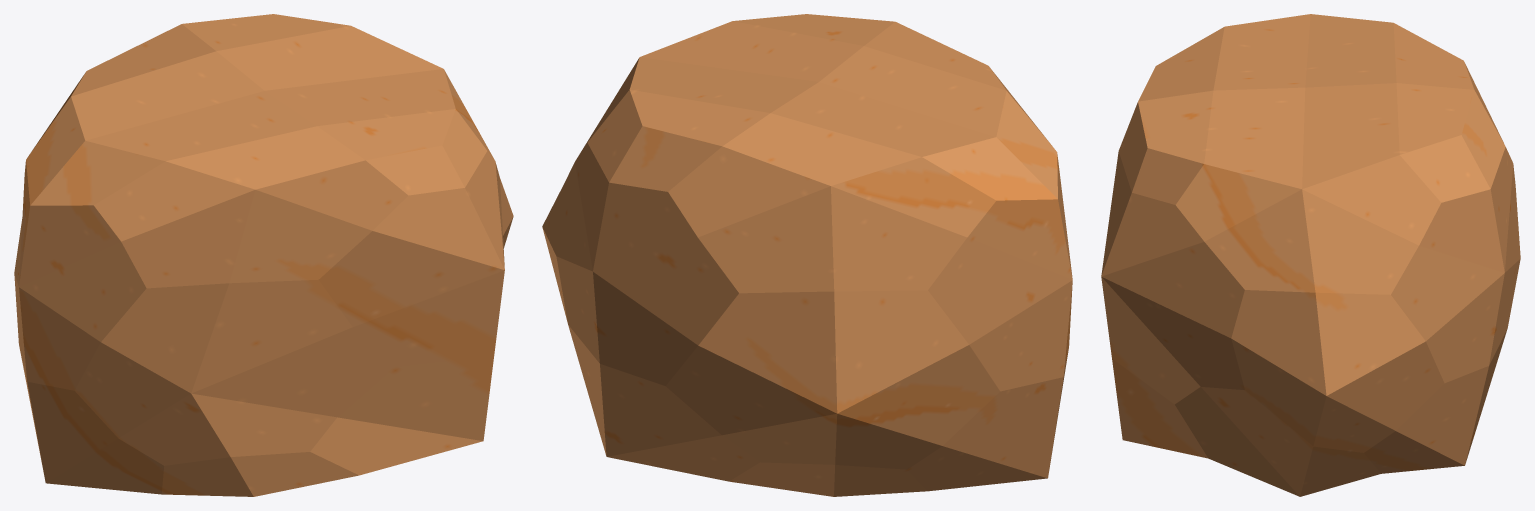
File: rock3.fbx
3 renders of one model, left to right at view 1: azimuth 30°, elevation 25°; view 2: azimuth 150°, elevation 25°; view 3: azimuth 270°, elevation 25°, orthographic. The views are drawn at different scales.
Visible parts, largest first — view 1: Plane; view 2: Plane; view 3: Plane.
Boxes of the visible parts, x1,y1,x2,y2 form: Plane: (14,14,513,496); Plane: (542,14,1072,496); Plane: (1101,14,1520,496).
Bounding box in the file's own units: 231 × 148 × 174.
1 material, 1 textured.
